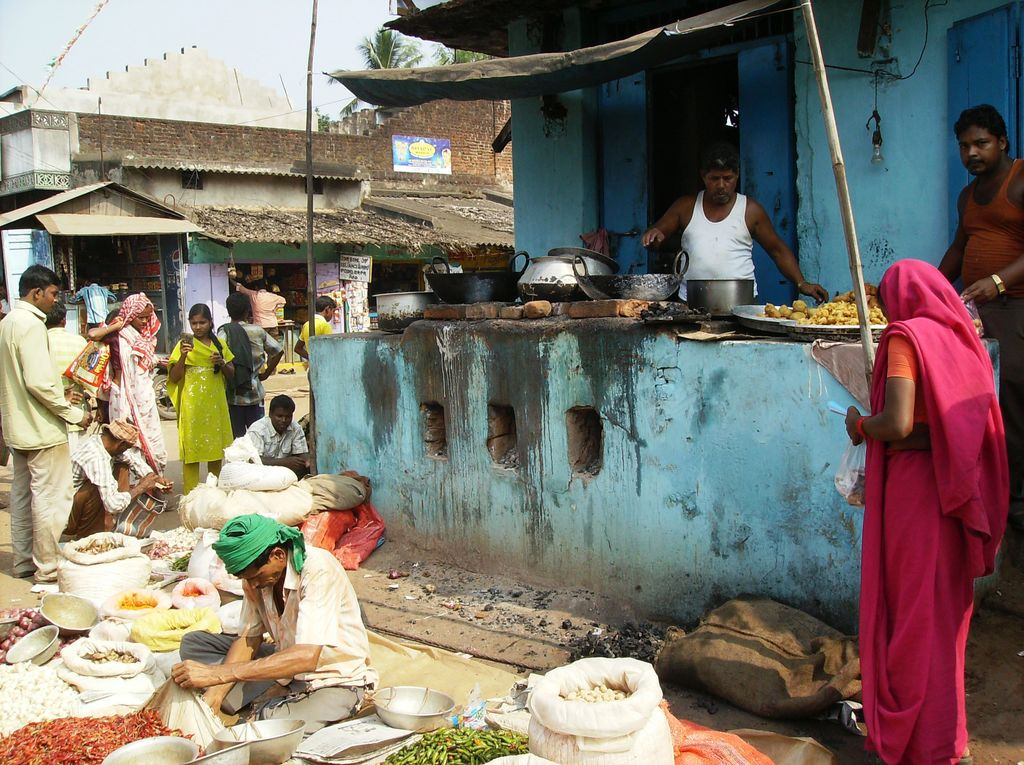Person: (0, 103, 1024, 765)
